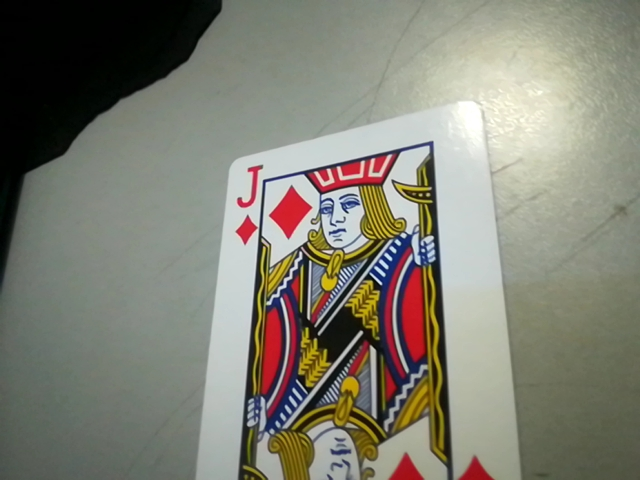fk j: (223, 161, 267, 241)
